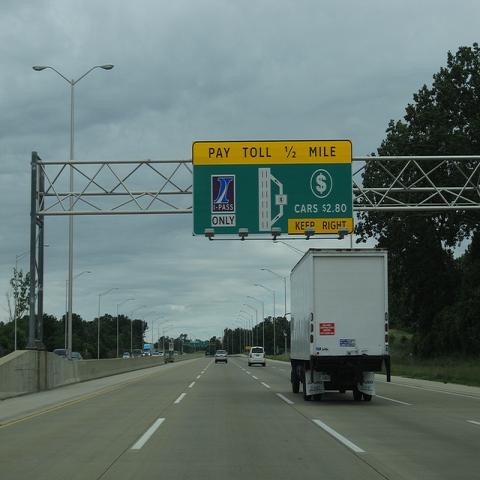car: (248, 346, 266, 367), (216, 350, 228, 364), (53, 349, 68, 360), (131, 349, 143, 358), (72, 352, 83, 359), (123, 352, 131, 359), (159, 351, 164, 357), (174, 351, 180, 355), (153, 353, 159, 356)
truck: (290, 249, 391, 403), (143, 344, 151, 356)
